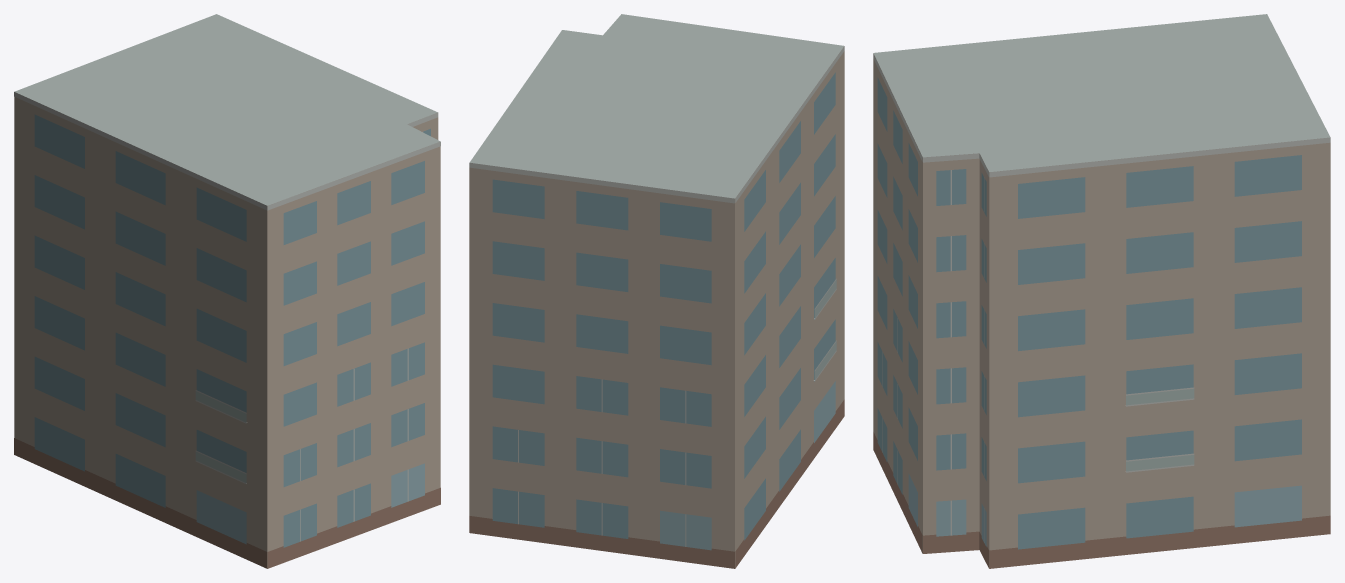
File: survey-upis-32692862.glb
3 renders of one model, left to right at view 1: azimuth 30°, elevation 25°; view 2: azimuth 150°, elevation 25°; view 3: azimuth 270°, elevation 25°, orthographic. The views are drawn at different scales.
Visible parts, largest first — view 1: survey-upis-32692862.tmp; view 2: survey-upis-32692862.tmp; view 3: survey-upis-32692862.tmp.
Boxes of the visible parts, x1=… form: survey-upis-32692862.tmp: x1=14, y1=14, x2=440, y2=568; survey-upis-32692862.tmp: x1=469, y1=14, x2=844, y2=568; survey-upis-32692862.tmp: x1=873, y1=14, x2=1330, y2=568.
Size of the model in its own units: 15.75 by 18.4 by 19.23.
